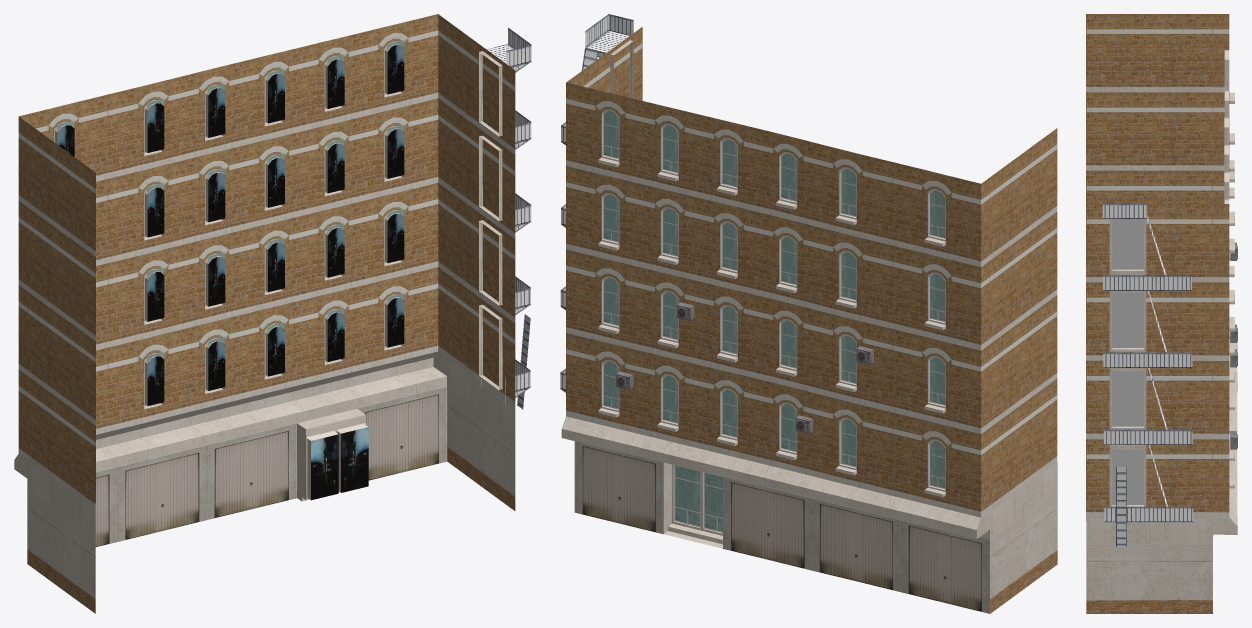
File: Building_04.fbx
The picture shows the model from 3 angles, left to right: view 1: azimuth 30°, elevation 25°; view 2: azimuth 150°, elevation 25°; view 3: azimuth 270°, elevation 25°; orthographic projection. The views are drawn at different scales.
Visible parts, largest first — view 1: Building_04; view 2: Building_04; view 3: Building_04.
Part boxes in pixels (box(x1,y1,x2,y2)): Building_04: box(14, 14, 531, 613); Building_04: box(560, 14, 1057, 613); Building_04: box(1086, 14, 1237, 613).
Size of the model in its own units: 2702 by 2598 by 847.
